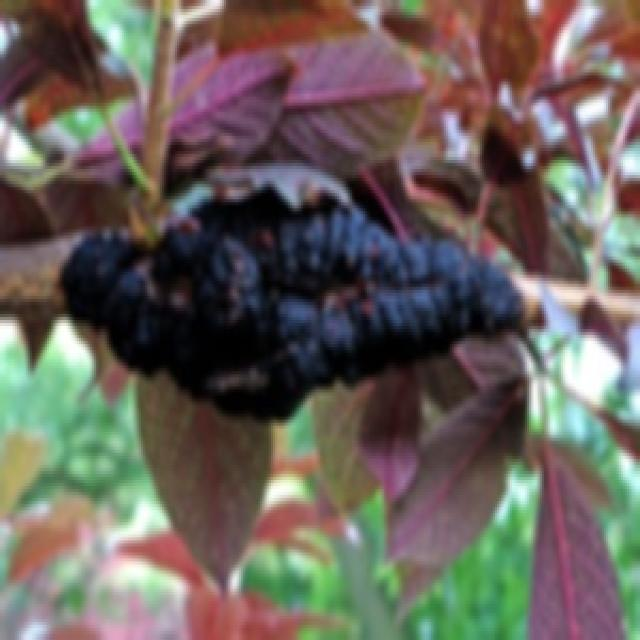Black_knot: (58, 169, 529, 423)
